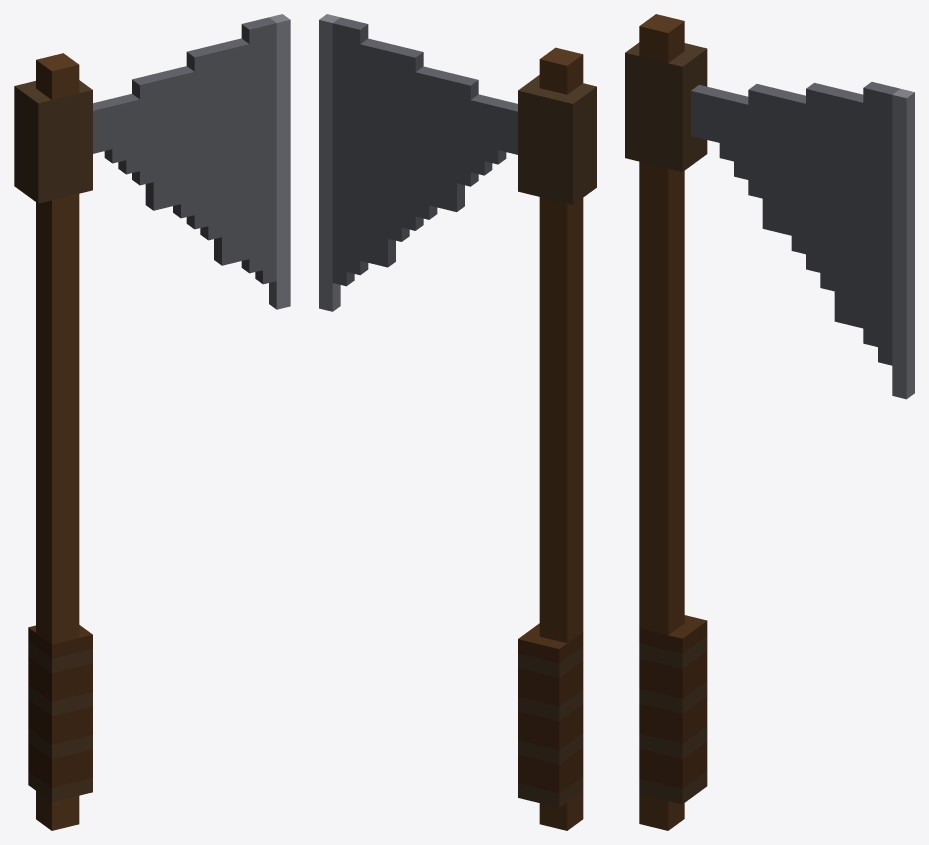
Rendered from iron_bearded_axe.glb.
3 renders of one model, left to right at view 1: azimuth 30°, elevation 25°; view 2: azimuth 150°, elevation 25°; view 3: azimuth 330°, elevation 25°, orthographic. The views are drawn at different scales.
Parts seen in each view (by area): view 1: iron_bearded_axe; view 2: iron_bearded_axe; view 3: iron_bearded_axe.
Part boxes in pixels (<box>): iron_bearded_axe: <box>14,14,290,830</box>; iron_bearded_axe: <box>319,14,596,830</box>; iron_bearded_axe: <box>625,14,914,830</box>.
Size of the model in its own units: 0.285 by 0.795 by 0.045.
